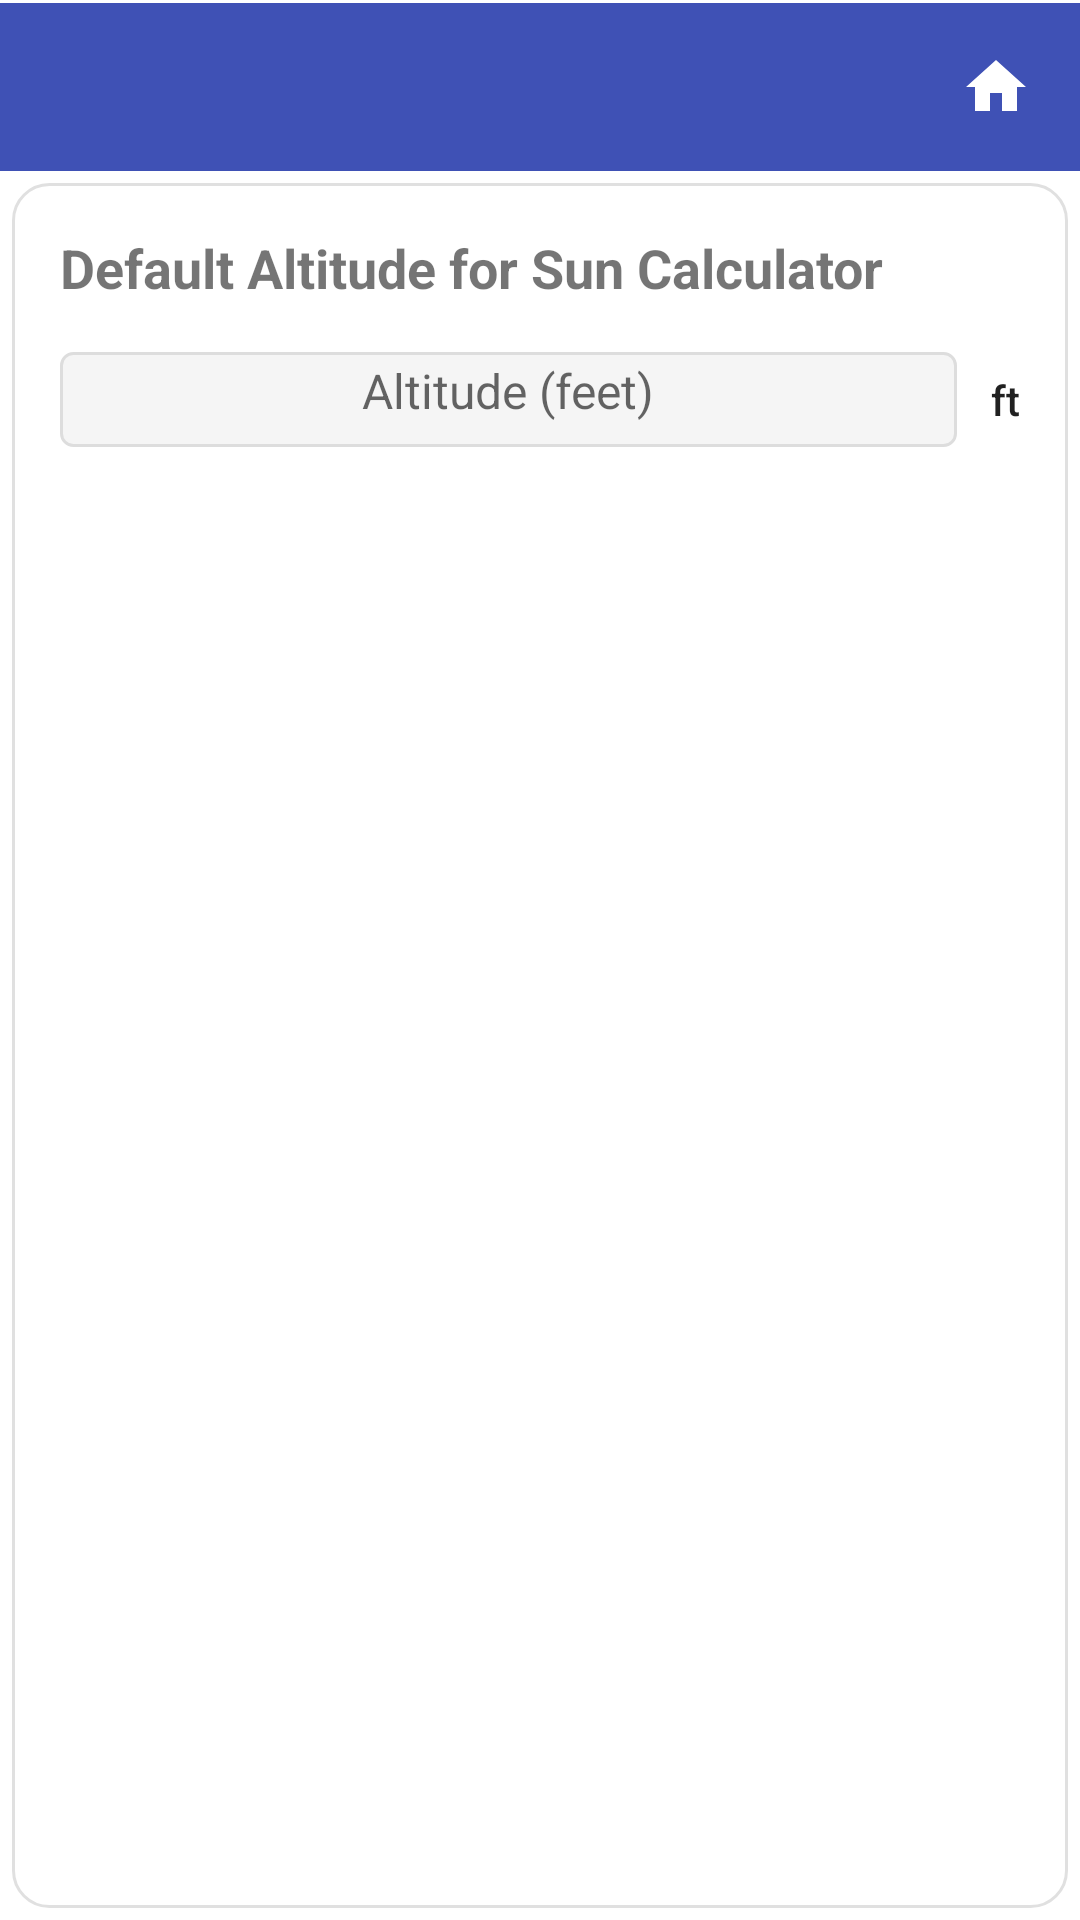

Screen size 1080px×1920px. Icon name, then its box in pixels as [x1,y1,x2,y2]:
Home: [966,60,1026,111]
